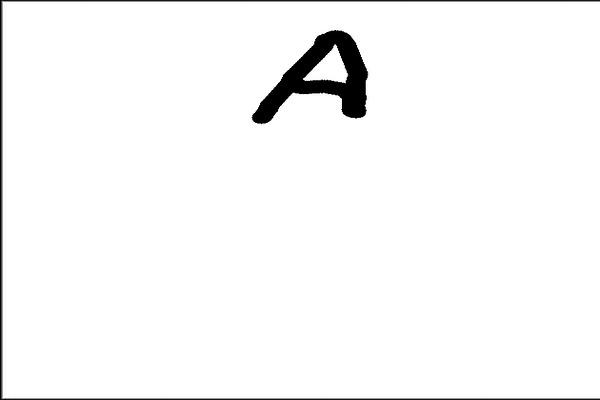A: (245, 22, 374, 130)
